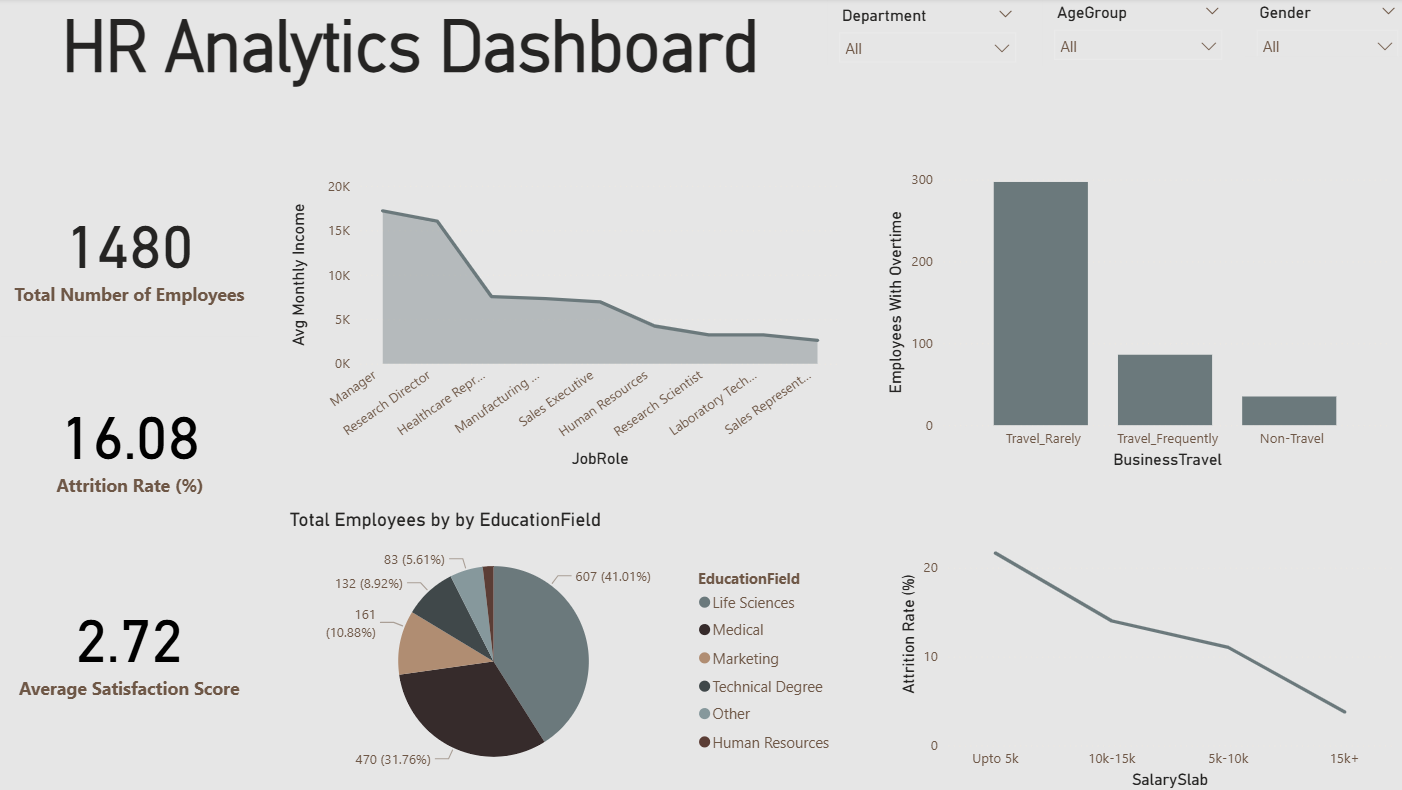

Layout of this report page (visuals, bound fields, positions):
{"tool":"powerbi","page":{"name":"Page 1","canvas":[1280,720],"ordinal":0},"visuals":[{"type":"areaChart","fields":{"Category":["HR_Analytics.JobRole"],"Y":["HR_Analytics.Avg Monthly Income"]},"box":[262.5,156.2,507.5,273.8],"z":0},{"type":"pieChart","fields":{"Category":["HR_Analytics.EducationField"],"Y":["Sum(HR_Analytics.EmployeeCount)"]},"box":[262.5,461.2,507.5,258.8],"z":1000},{"type":"clusteredColumnChart","fields":{"Category":["HR_Analytics.BusinessTravel"],"Y":["HR_Analytics.Employees With Overtime"]},"box":[802.5,150,466.2,280],"z":2000},{"type":"lineChart","fields":{"Y":["HR_Analytics.Attrition Rate (%)"],"Category":["HR_Analytics.SalarySlab"]},"box":[813.8,461.2,455,258.8],"z":3000},{"type":"card","fields":{"Values":["HR_Analytics.Average Satisfaction Score"]},"box":[0,491.2,245,190],"z":4000},{"type":"card","fields":{"Values":["Sum(HR_Analytics.EmployeeCount)"]},"box":[0,111.2,245,237.5],"z":5000},{"type":"card","fields":{"Values":["HR_Analytics.Attrition Rate (%)"]},"box":[6.2,306.2,232.5,191.2],"z":6000},{"type":"slicer","fields":{"Values":["HR_Analytics.Department"]},"box":[753.8,2.5,180,58.8],"z":7000},{"type":"slicer","fields":{"Values":["HR_Analytics.Gender"]},"box":[1131.2,0,148.8,52.5],"z":8000},{"type":"slicer","fields":{"Values":["HR_Analytics.AgeGroup"]},"box":[948.8,0,172.5,61.2],"z":9000},{"type":"textbox","box":[0,0,753.8,150],"z":10000}]}

Visuals, with their boxes in screenshot pixels (x1, y1, x2, y2), scaled from the page's 1280x720 canvas onto the 1402x790 screenshot:
areaChart - HR_Analytics.JobRole x HR_Analytics.Avg Monthly Income: 288:171:843:472
pieChart - HR_Analytics.EducationField x Sum(HR_Analytics.EmployeeCount): 288:506:843:789
clusteredColumnChart - HR_Analytics.BusinessTravel x HR_Analytics.Employees With Overtime: 879:165:1390:472
lineChart - HR_Analytics.Attrition Rate (%) x HR_Analytics.SalarySlab: 891:506:1390:789
card - HR_Analytics.Average Satisfaction Score: 0:539:268:747
card - Sum(HR_Analytics.EmployeeCount): 0:122:268:383
card - HR_Analytics.Attrition Rate (%): 7:336:261:546
slicer - HR_Analytics.Department: 826:3:1023:67
slicer - HR_Analytics.Gender: 1239:0:1401:58
slicer - HR_Analytics.AgeGroup: 1039:0:1228:67
textbox: 0:0:826:165
